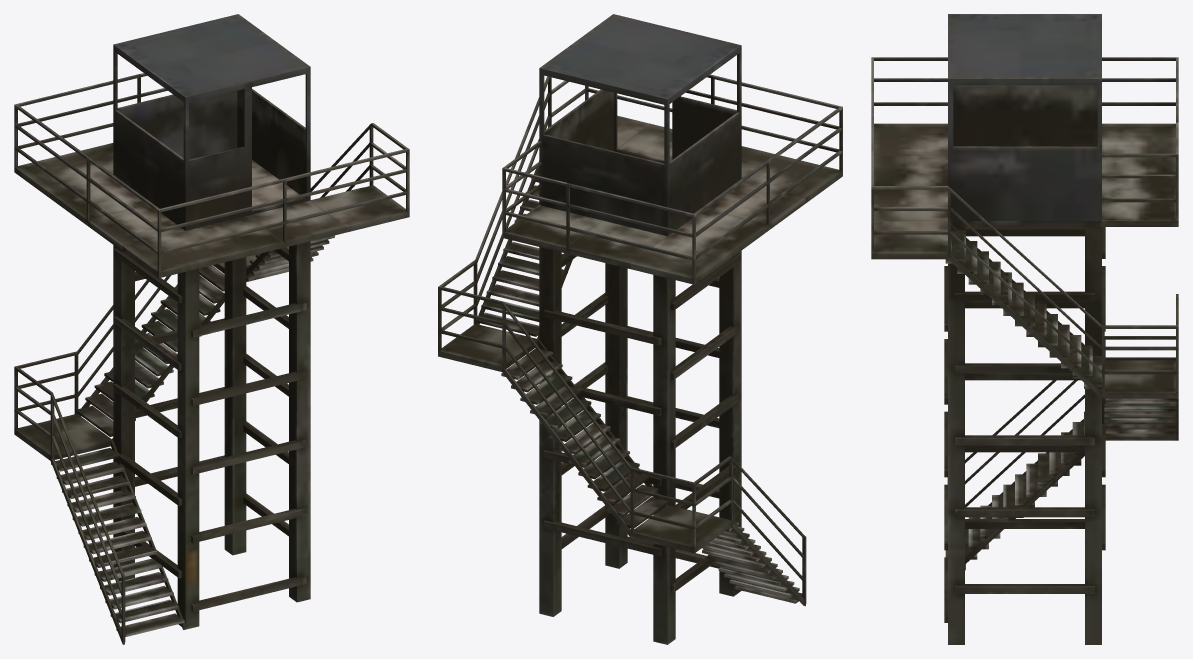
File: p_tower.glb
3 renders of one model, left to right at view 1: azimuth 30°, elevation 25°; view 2: azimuth 150°, elevation 25°; view 3: azimuth 270°, elevation 25°, orthographic. The views are drawn at different scales.
Parts seen in each view (by area): view 1: scene__0; view 2: scene__0; view 3: scene__0.
Part boxes in pixels (<box>): scene__0: <box>14,14,409,644</box>; scene__0: <box>438,14,842,644</box>; scene__0: <box>871,14,1178,644</box>.
Bounding box in the file's own units: 148 × 300 × 148.
1 material, 1 textured.
